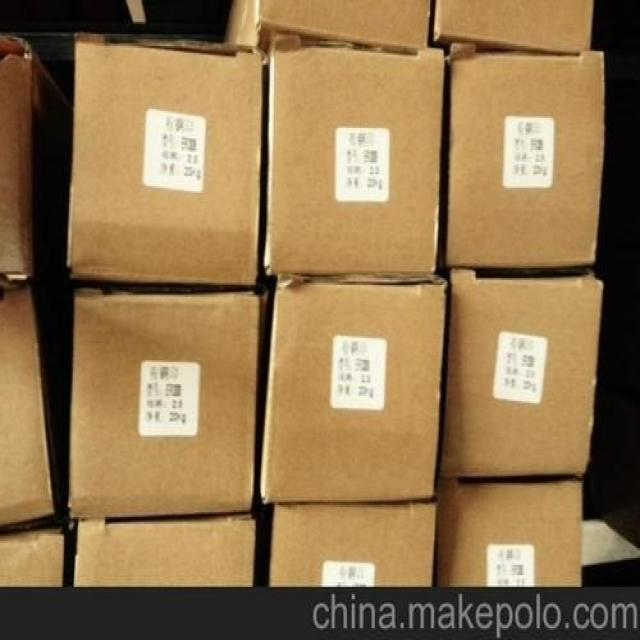box: (67, 34, 268, 285), (67, 285, 269, 521), (262, 32, 444, 276), (259, 275, 449, 503), (445, 44, 605, 268), (440, 268, 603, 478), (0, 32, 70, 290), (435, 480, 582, 589), (0, 285, 64, 529), (269, 500, 438, 587), (73, 512, 257, 587), (225, 0, 431, 55), (433, 0, 595, 55), (0, 526, 64, 587)
